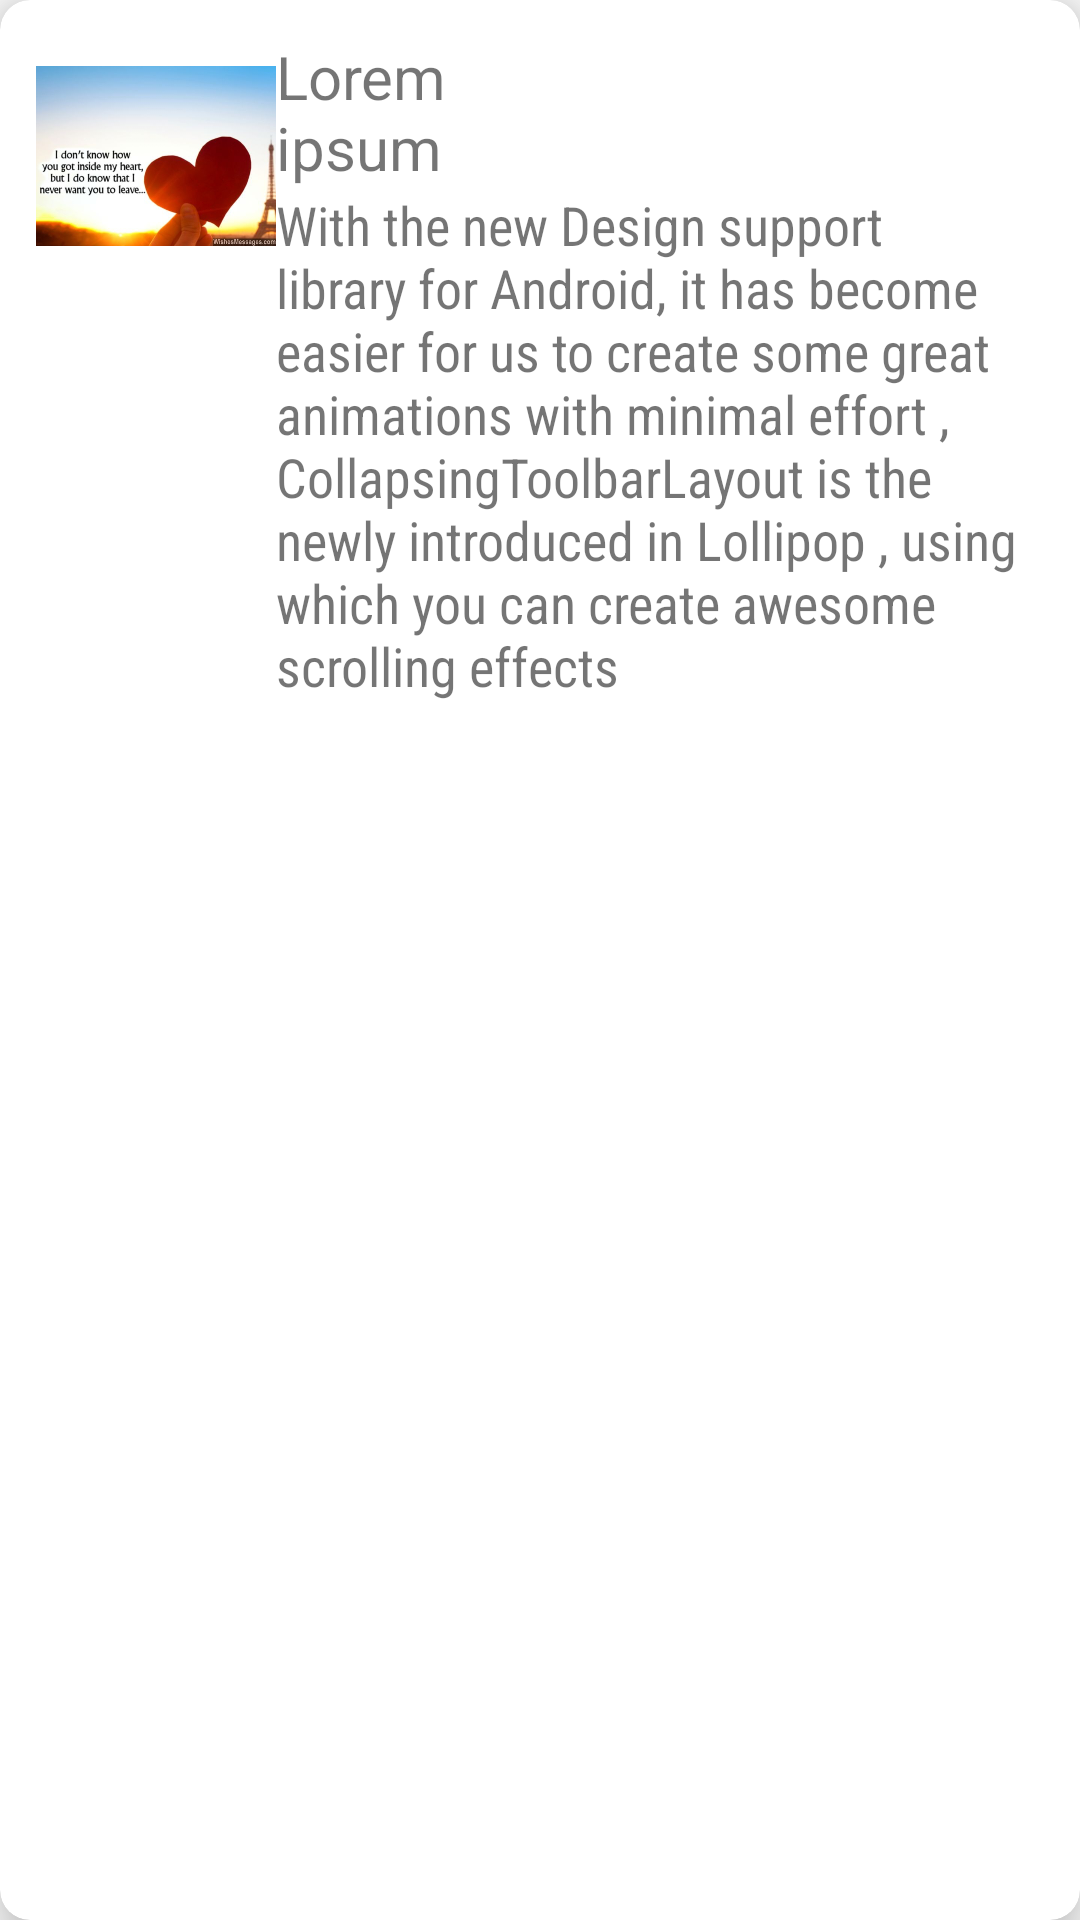

Screen size 1080 × 1920. Icon name, then its center in pixels as [x,y]:
love: [156,156]
